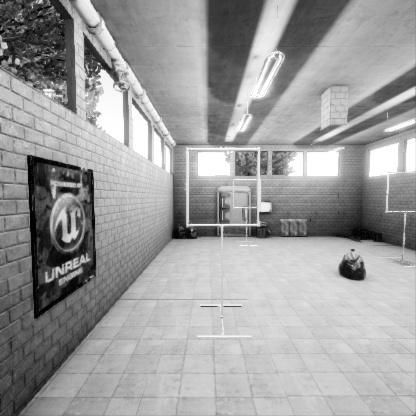gate: (187, 193, 264, 269), (390, 204, 416, 246), (233, 208, 262, 237)
